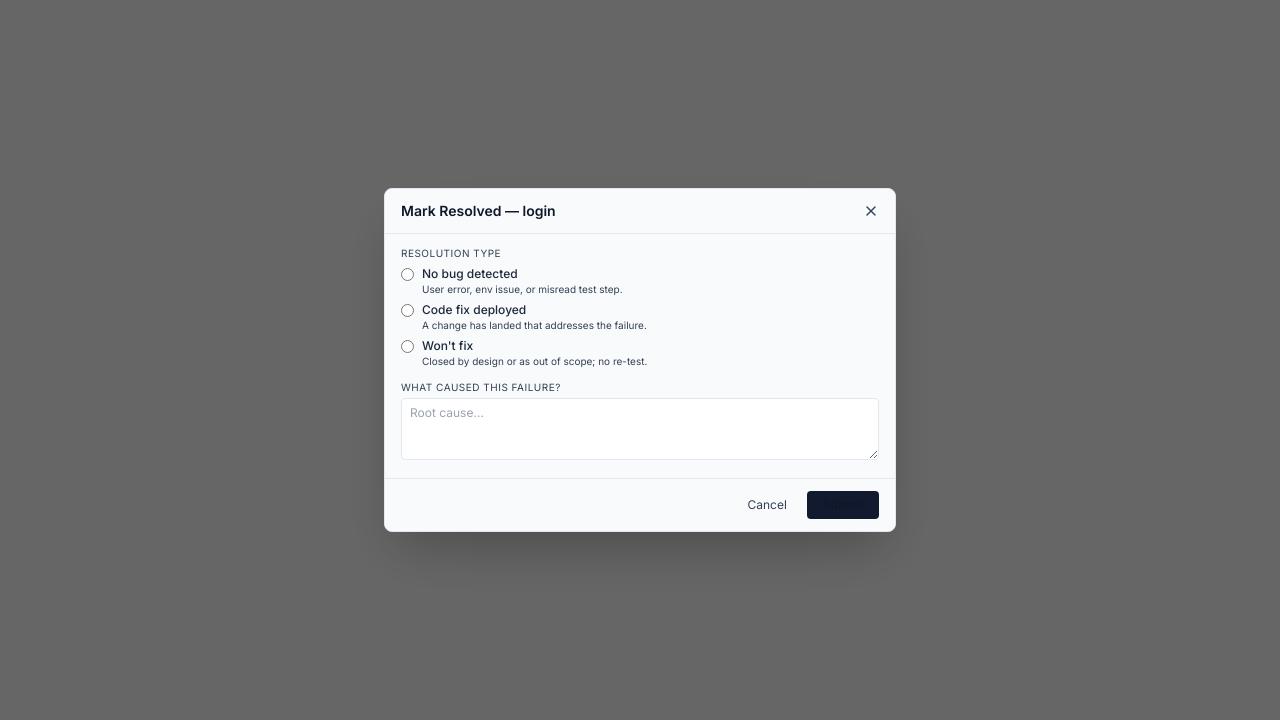
Scenario: ResolutionModal — Submit gate › Submit enables for code_fix_deployed with all required fields
Click the radio button labelled "Code fix deployed".
click(408, 310)  # box [401,304,414,317]
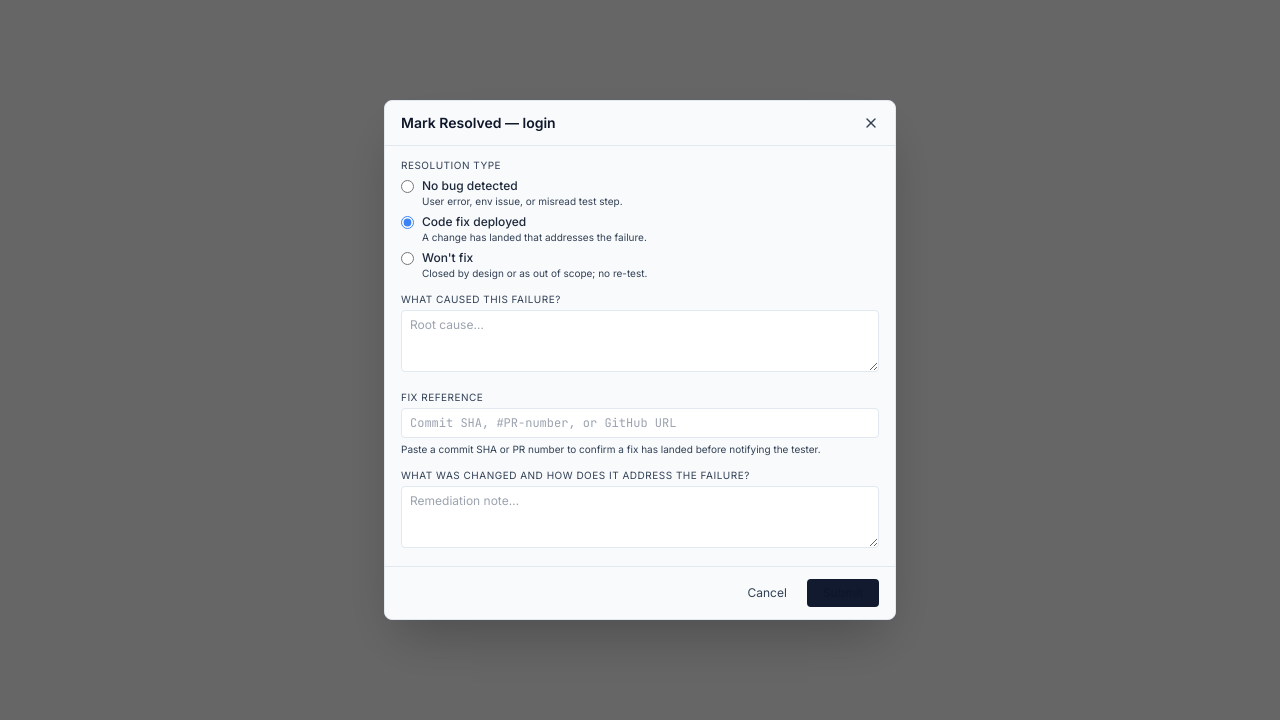
Type "Stale cache." into the text box with placeholder "Root cause…".
click(640, 341); type("Stale cache.")  # box [401,310,879,372]
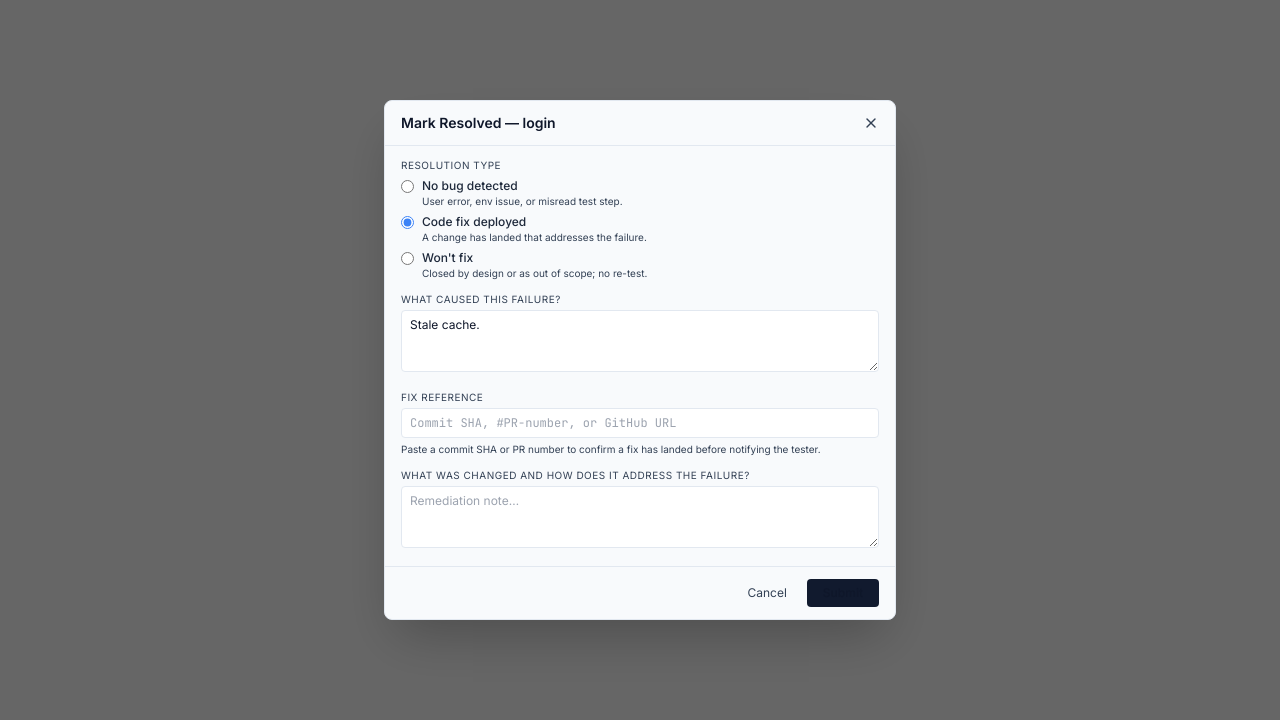
Type "abc1234" into the field with placeholder "Commit SHA, #PR-number, or GitHub URL".
click(640, 423); type("abc1234")  # box [401,408,879,438]
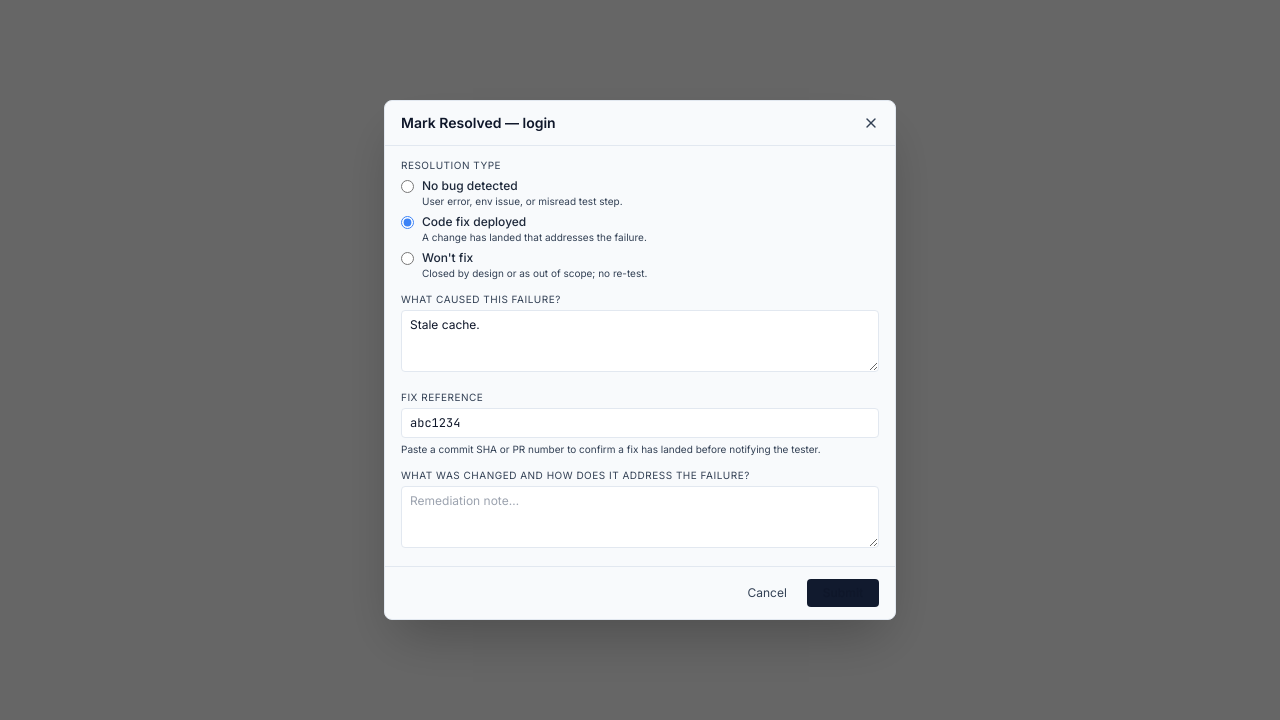
Type "Cleared cache on every push." into the text box with placeholder "Remediation note…".
click(640, 517); type("Cleared cache on every push.")  # box [401,486,879,548]
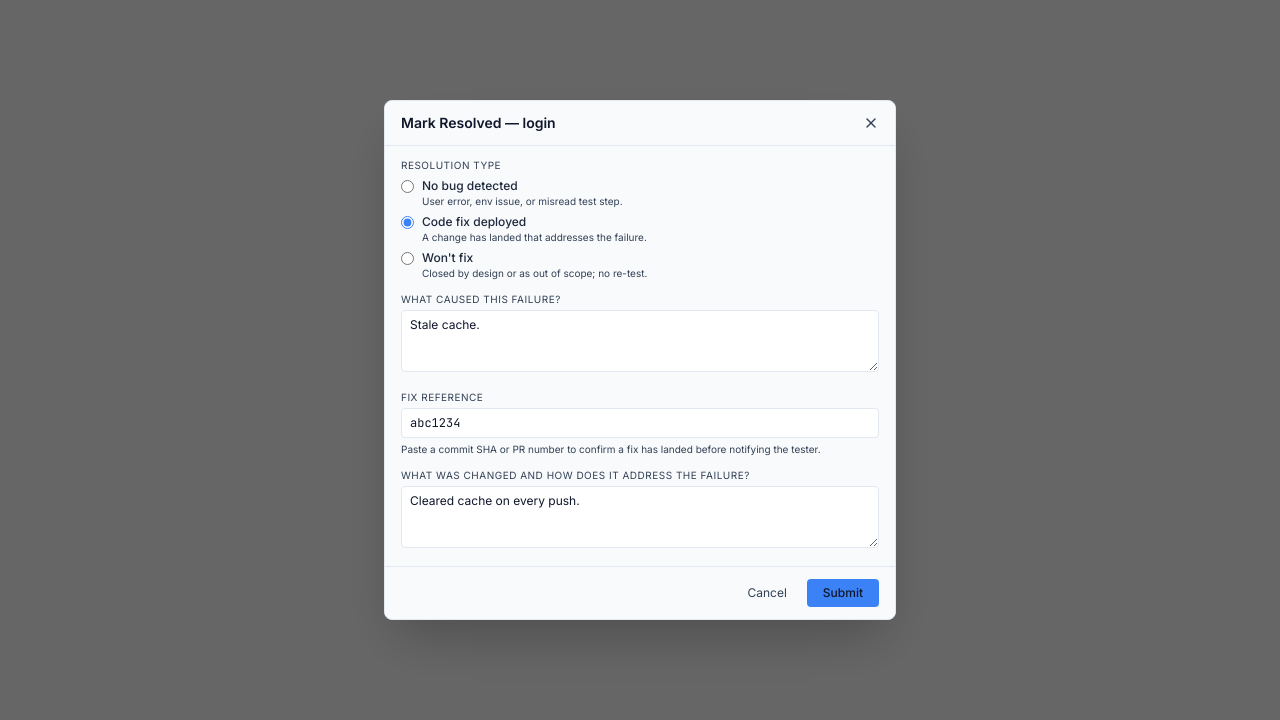
Expected: the button "Submit" is enabled, [807,579,879,607]
